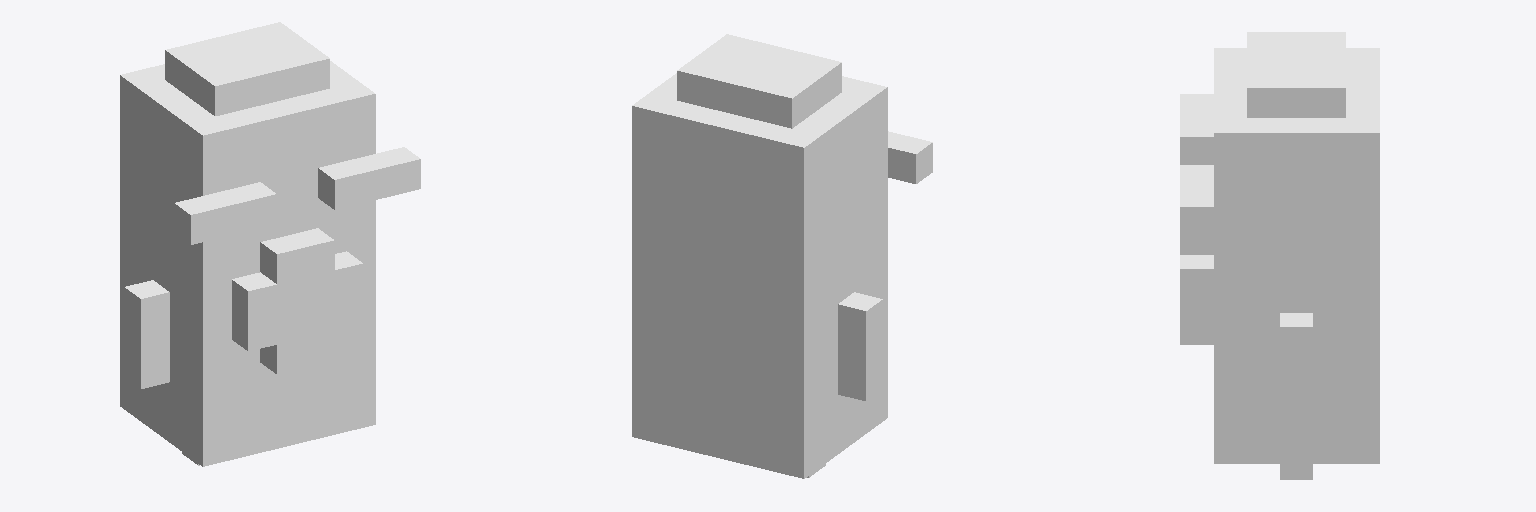
The model's file is OldManCharacter2.obj.
The picture shows the model from 3 angles: view 1: azimuth 30°, elevation 25°; view 2: azimuth 150°, elevation 25°; view 3: azimuth 270°, elevation 25°; orthographic projection.
Bounding box in the file's own units: 8 × 13 × 6.